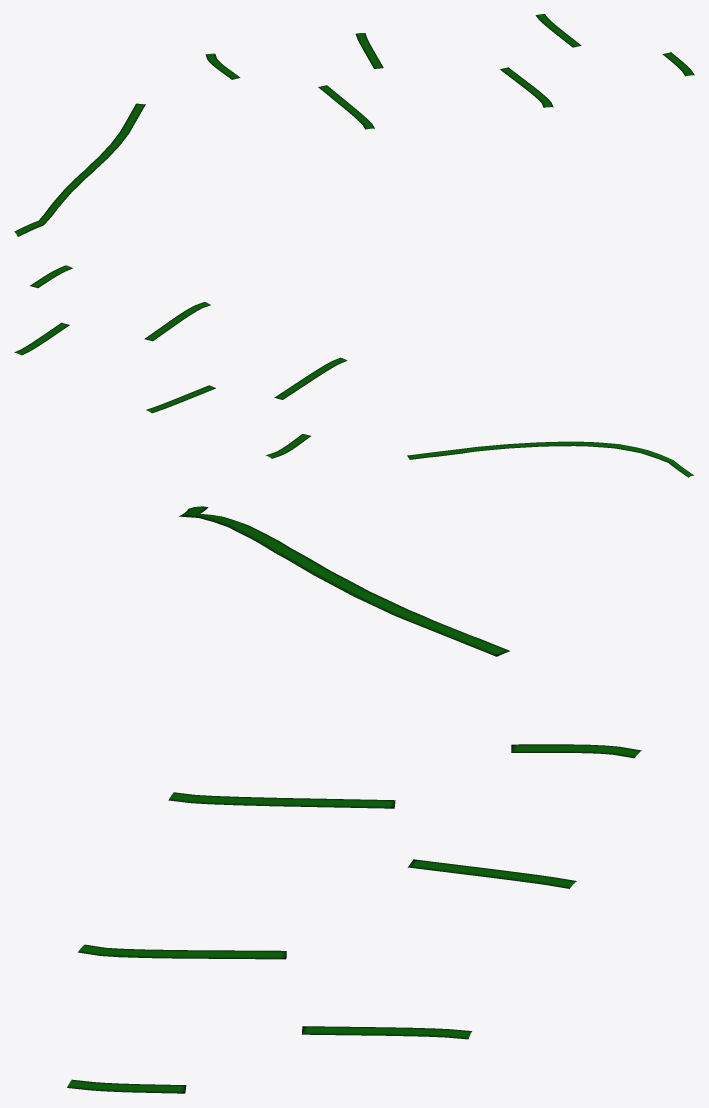
The model's file is SM_Millbrook_Paths_NoCol.fbx.
3 views of the same model, one above another, from view 1: azimuth 30°, elevation 25°; view 2: azimuth 150°, elevation 25°; view 3: azimuth 270°, elevation 25° (orthographic). The views are drawn at different scales.
Parts seen in each view (by area): view 1: SM_Millbrook_Paths_NoCol; view 2: SM_Millbrook_Paths_NoCol; view 3: SM_Millbrook_Paths_NoCol.
Boxes of the visible parts, <box> form: SM_Millbrook_Paths_NoCol: <box>14,14,694,236</box>; SM_Millbrook_Paths_NoCol: <box>14,265,694,477</box>; SM_Millbrook_Paths_NoCol: <box>67,506,641,1093</box>.
Size of the model in its own units: 97.24 by 3.76 by 37.1.
